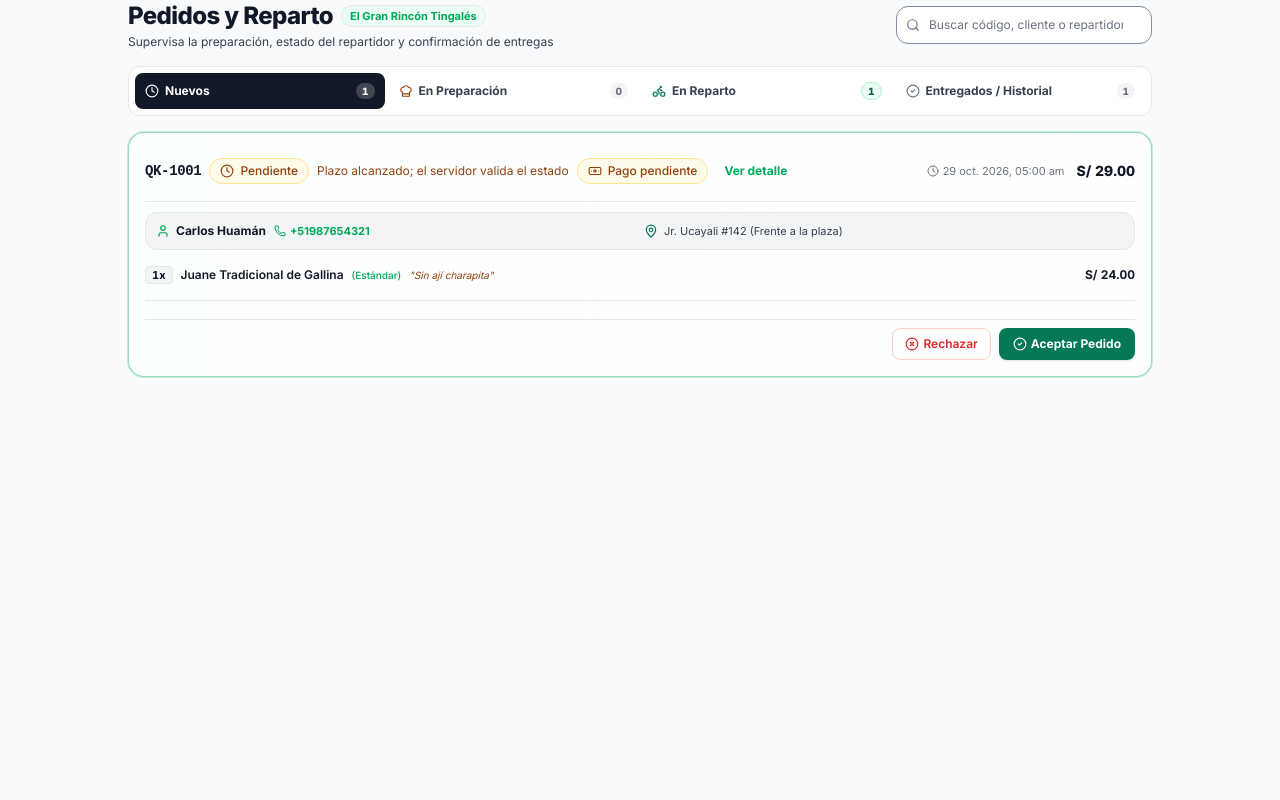
Test case: Bloque 5 UI Verification: Merchant Dashboard, Orders and Reports › MerchantOrdersPage › abre modal con detalle completo del pedido, dirección, total y timeline
The image size is (1280, 800).
Check: the text "QK-1001" is shown, box [145, 161, 201, 181]
Note: Click Ver detalle
What coordinates should you click on to do the following:
click the button "Ver detalle"
I would click on:
 (756, 171)
Its box is [716, 149, 795, 193].
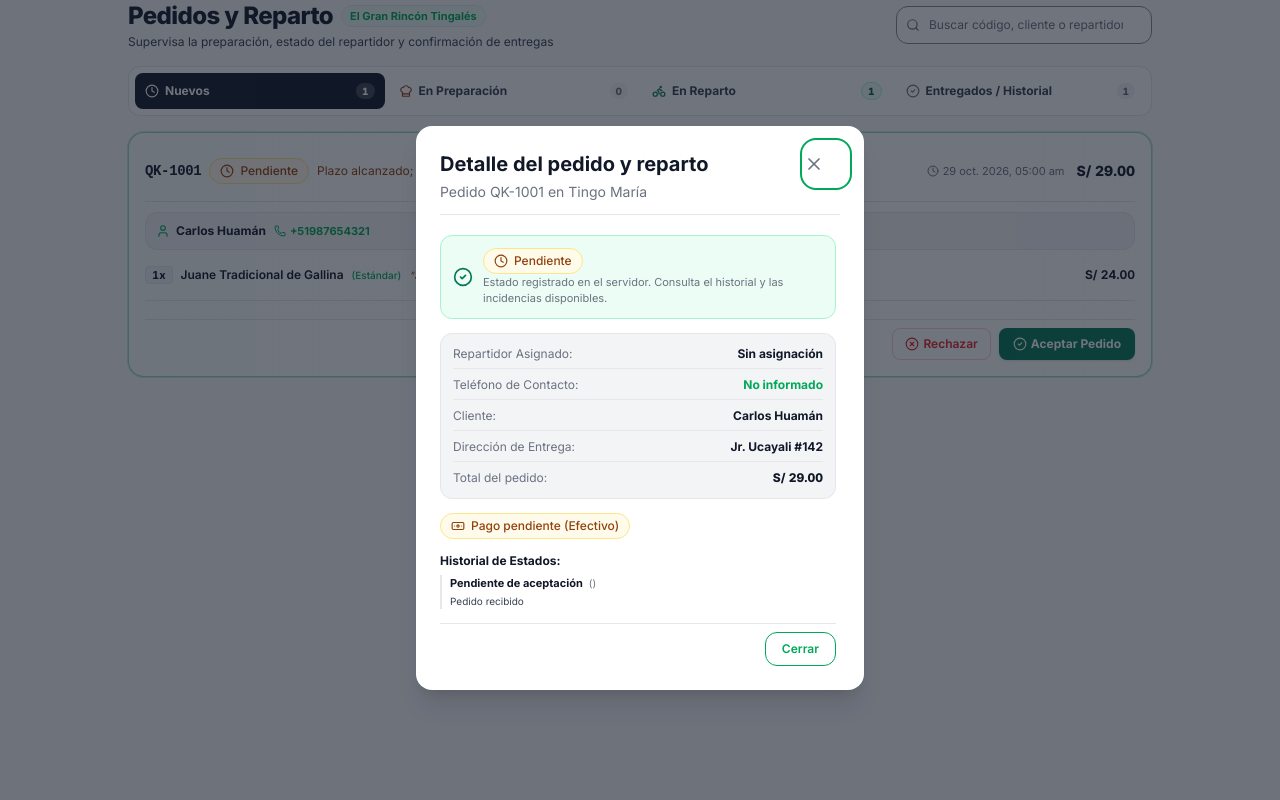
Check: the text "Carlos Huamán" next to "+51987654321" is shown, box [176, 223, 266, 238]
Check: the heading "Detalle del pedido y reparto" is shown, box [440, 150, 708, 178]
